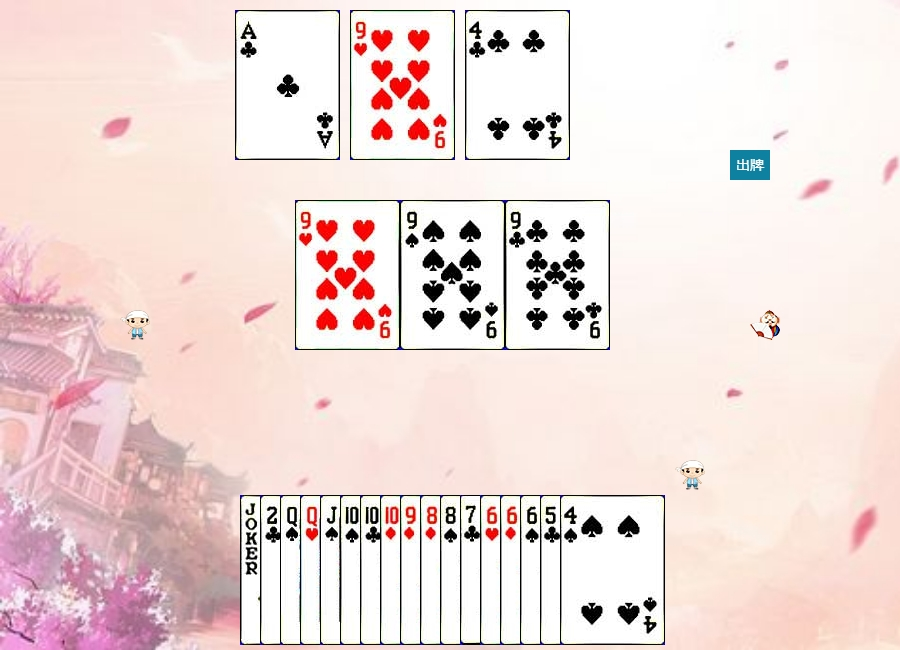10~1: (380, 495, 485, 645)
10~2: (360, 495, 465, 645)
10~4: (340, 495, 445, 645)
11~4: (320, 495, 425, 645)
12~3: (300, 495, 405, 645)
12~4: (280, 495, 385, 645)
14~2: (235, 10, 340, 160)
15~2: (260, 495, 365, 645)
17~3: (240, 495, 345, 645)
4~2: (465, 10, 570, 160)
4~4: (560, 495, 665, 645)
5~2: (540, 495, 645, 645)
6~1: (500, 495, 605, 645)
6~3: (480, 495, 585, 645)
6~4: (520, 495, 625, 645)
7~2: (460, 495, 565, 645)
8~1: (420, 495, 525, 645)
8~4: (440, 495, 545, 645)
9~1: (400, 495, 505, 645)
9~2: (505, 200, 610, 350)
9~3: (350, 10, 455, 160), (295, 200, 400, 350)
9~4: (400, 200, 505, 350)
